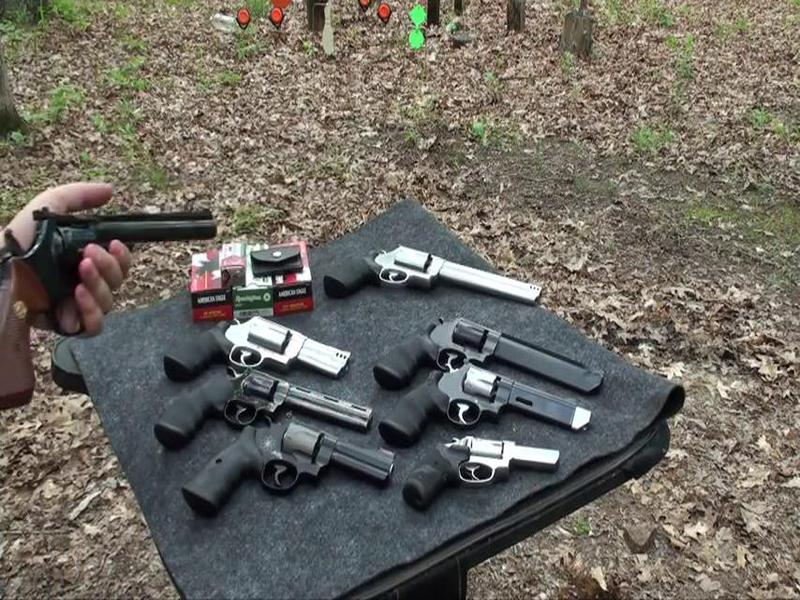Revolver: (1, 202, 224, 403)
